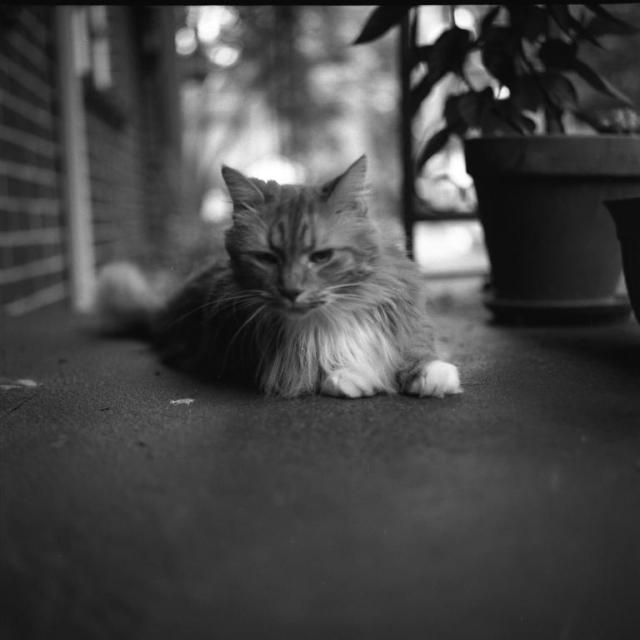Cat: (90, 160, 465, 402)
